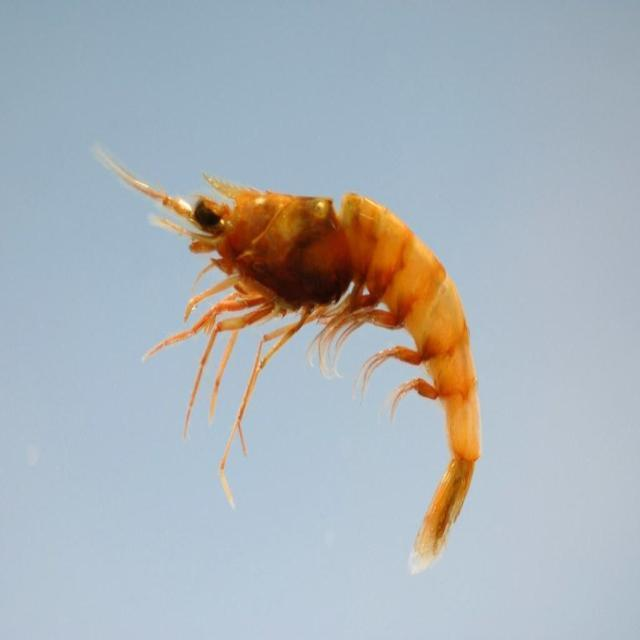Shrimp: (89, 138, 482, 577)
